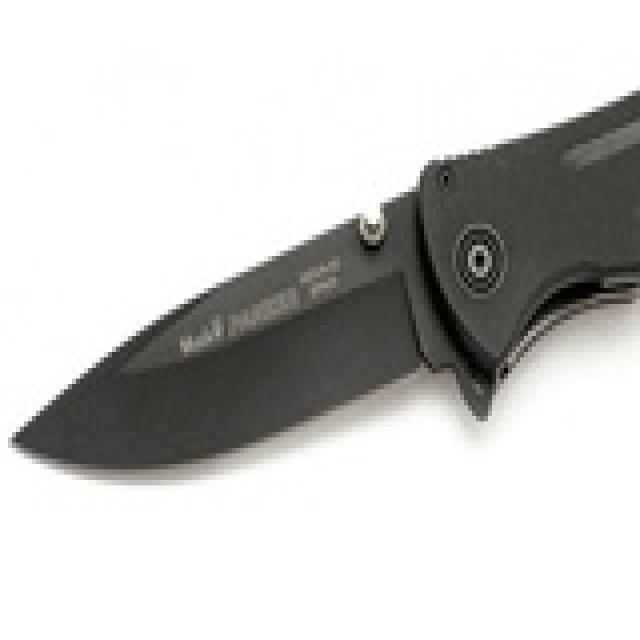Knife: (8, 86, 632, 485)
